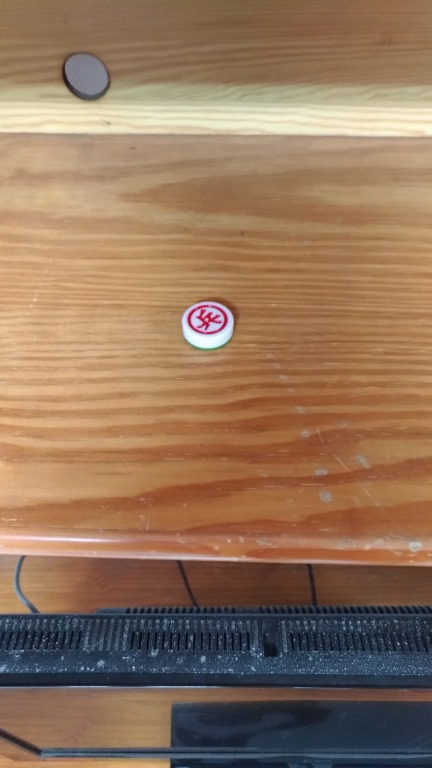r-pawn: (177, 300, 240, 353)
